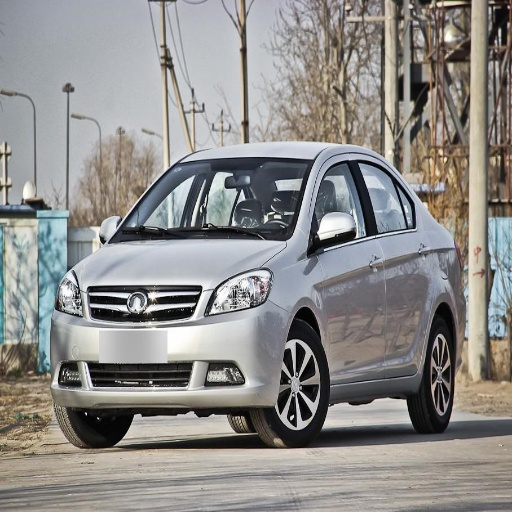front_bumper: (50, 286, 290, 410)
front_glass: (108, 162, 312, 240)
front_left_door: (309, 156, 386, 376)
trunk: (431, 248, 475, 330)
